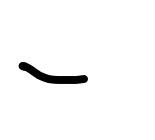minus: (18, 61, 86, 86)
